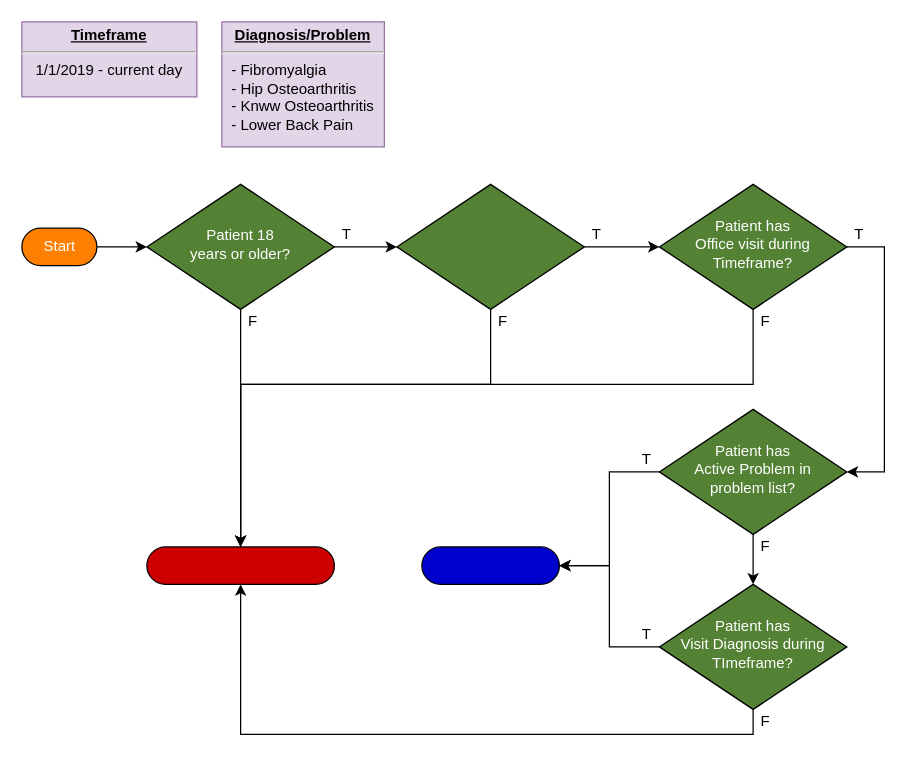
Some shapes in this 916 by 766 pixel diagram are drawn without their labels. The shapes that lost their labels are listed below. From the top down, each one's centre as x and y in pixels, then its label:
At (x=490, y=246): "Patient English speaking?".
At (x=240, y=565): "Patient Doesn't Qualify".
At (x=490, y=565): "Patient Qualifies".
